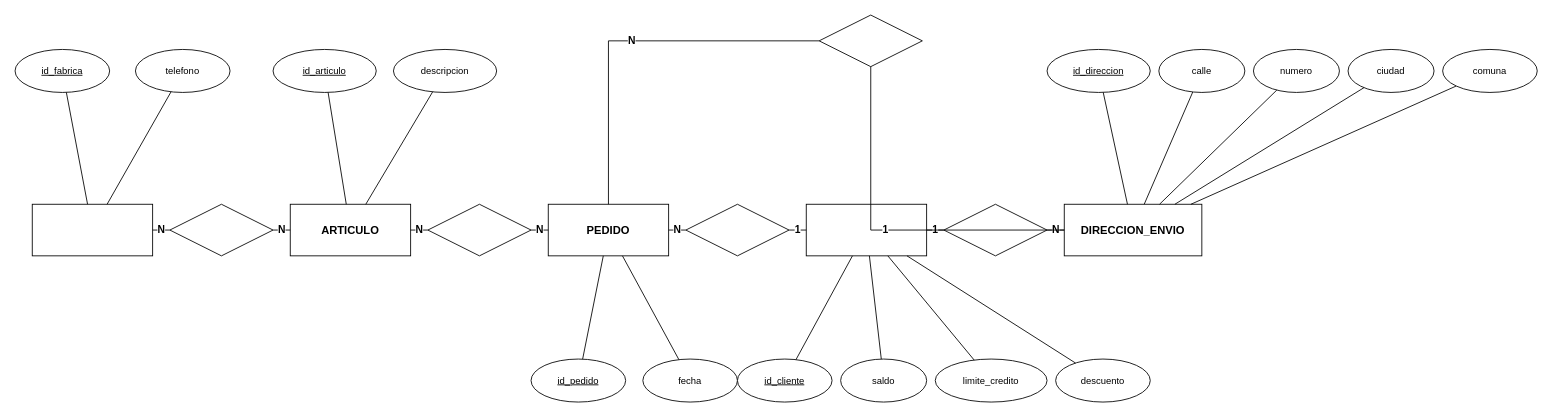
Some shapes in this 1552 by 417 pixel diagram are drawn without their labels. The shapes that lost their labels are listed below. From the top down, each one's box as (x1, y1, x2, y2) in pixels, then its label:
(818, 14, 922, 67): Se envía a
(31, 203, 153, 256): FABRICA
(169, 203, 273, 256): Distribuye
(427, 203, 531, 256): Contiene
(685, 203, 789, 256): Realiza
(805, 203, 927, 256): CLIENTE
(943, 203, 1047, 256): Tiene
